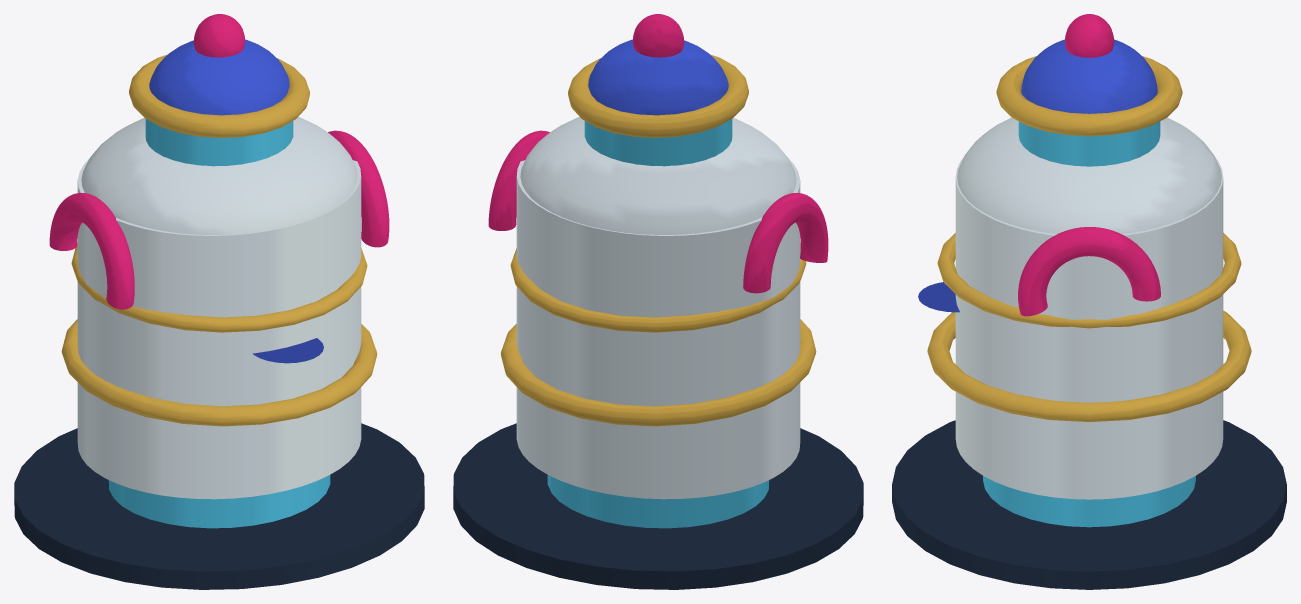
File: 0736_先秦图鉴_仰韶彩陶.glb
The picture shows the model from 3 angles, left to right: view 1: azimuth 30°, elevation 25°; view 2: azimuth 150°, elevation 25°; view 3: azimuth 270°, elevation 25°; orthographic projection.
Visible parts, largest first — view 1: card_0736; view 2: card_0736; view 3: card_0736.
Boxes of the visible parts, left/top/right/bottom form: card_0736: left=14, top=14, right=424, bottom=589; card_0736: left=453, top=14, right=863, bottom=589; card_0736: left=892, top=14, right=1286, bottom=589.
Bounding box in the file's own units: 0.7722 × 1 × 0.7359.
